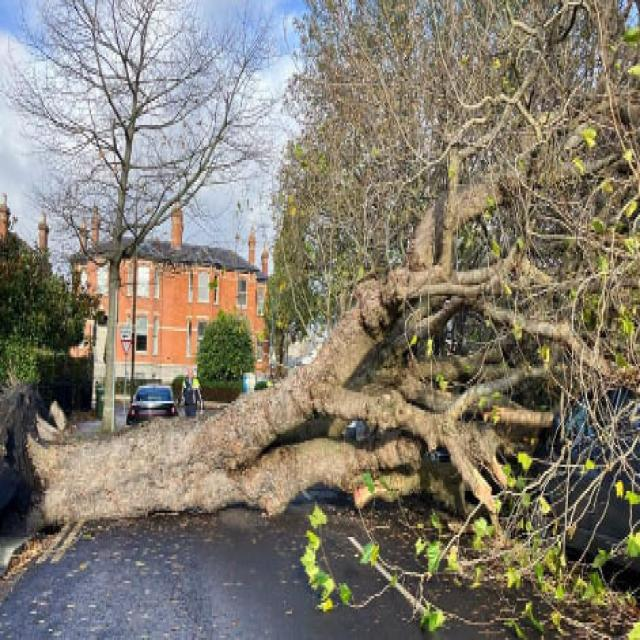fallen_tree: (34, 158, 621, 592)
